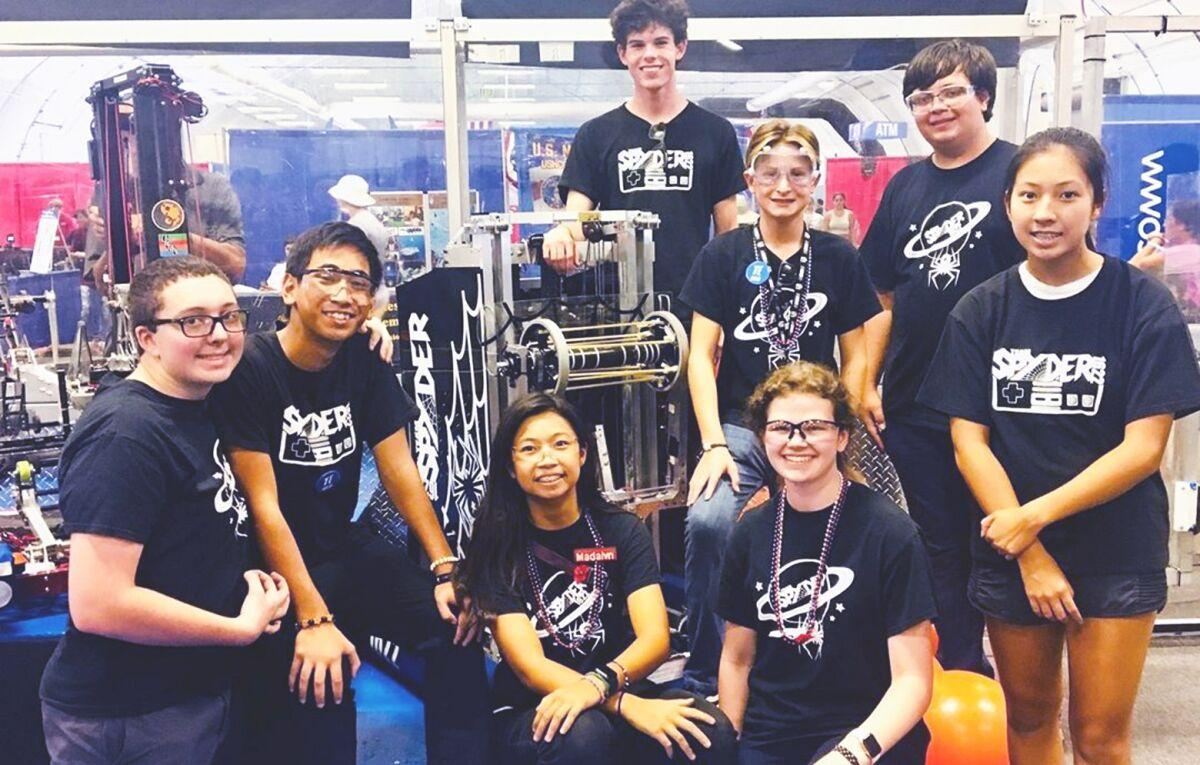robot: (376, 189, 709, 702), (31, 57, 270, 436)
